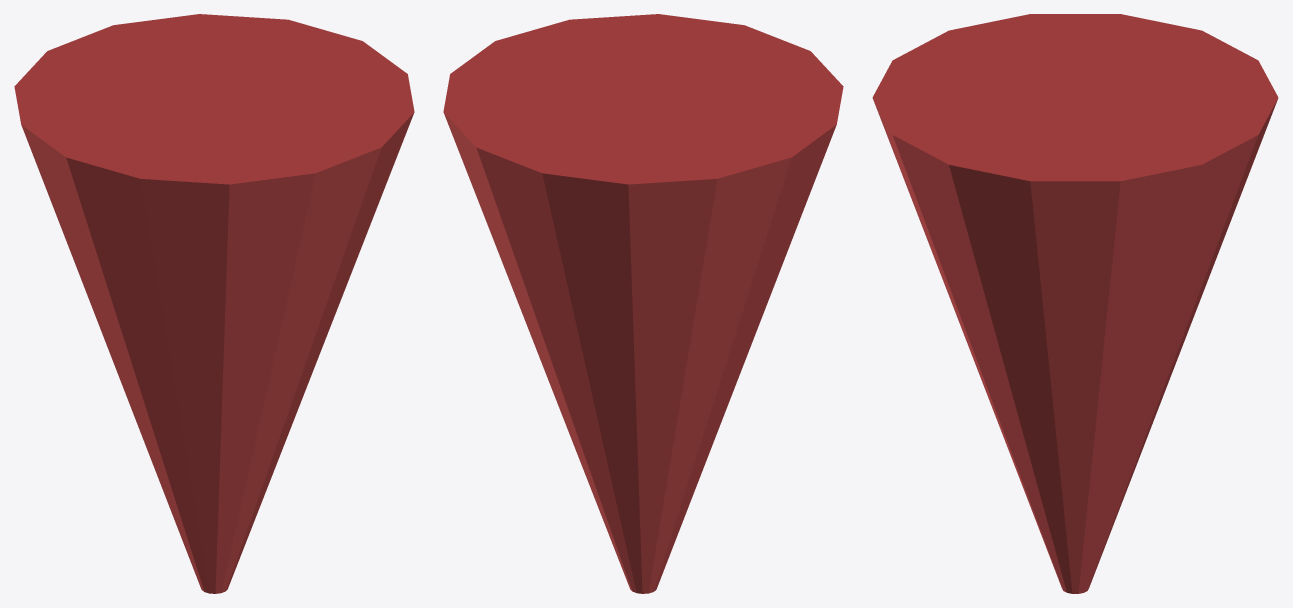
The model's file is cracker.obj.
3 views of the same model, side by side, from view 1: azimuth 30°, elevation 25°; view 2: azimuth 150°, elevation 25°; view 3: azimuth 270°, elevation 25° (orthographic).
Visible parts, largest first — view 1: 円錐; view 2: 円錐; view 3: 円錐.
Part boxes in pixels (left/top/right/bottom): 円錐: left=14, top=14, right=414, bottom=593; 円錐: left=443, top=14, right=843, bottom=593; 円錐: left=872, top=14, right=1278, bottom=593.
Size of the model in its own units: 1.46 by 2 by 1.5.
1 material, 1 textured.
